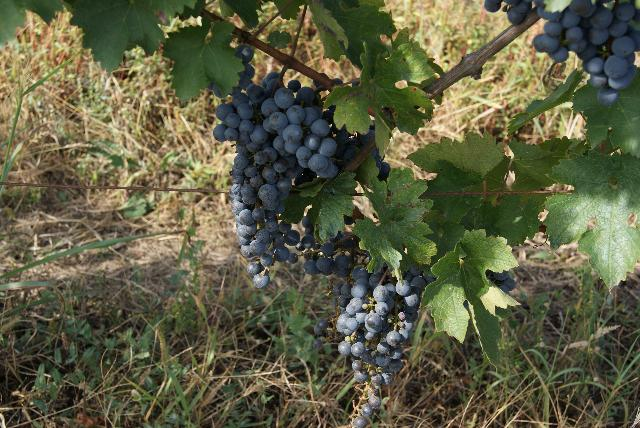grapes: (214, 72, 349, 289), (336, 268, 418, 428)
